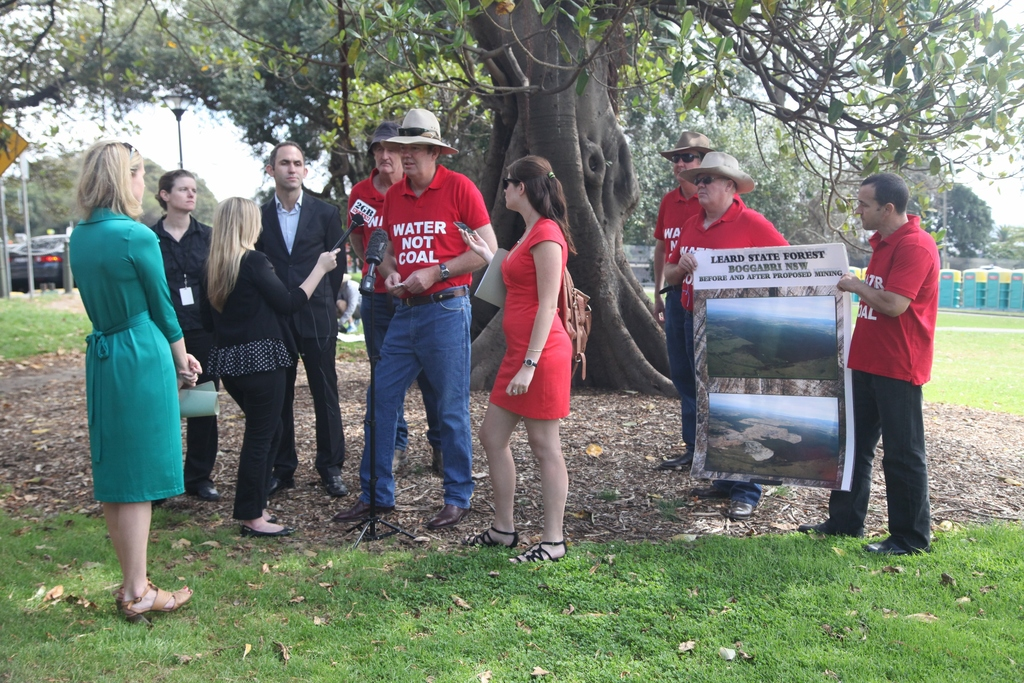Tree: (182, 0, 1023, 396)
